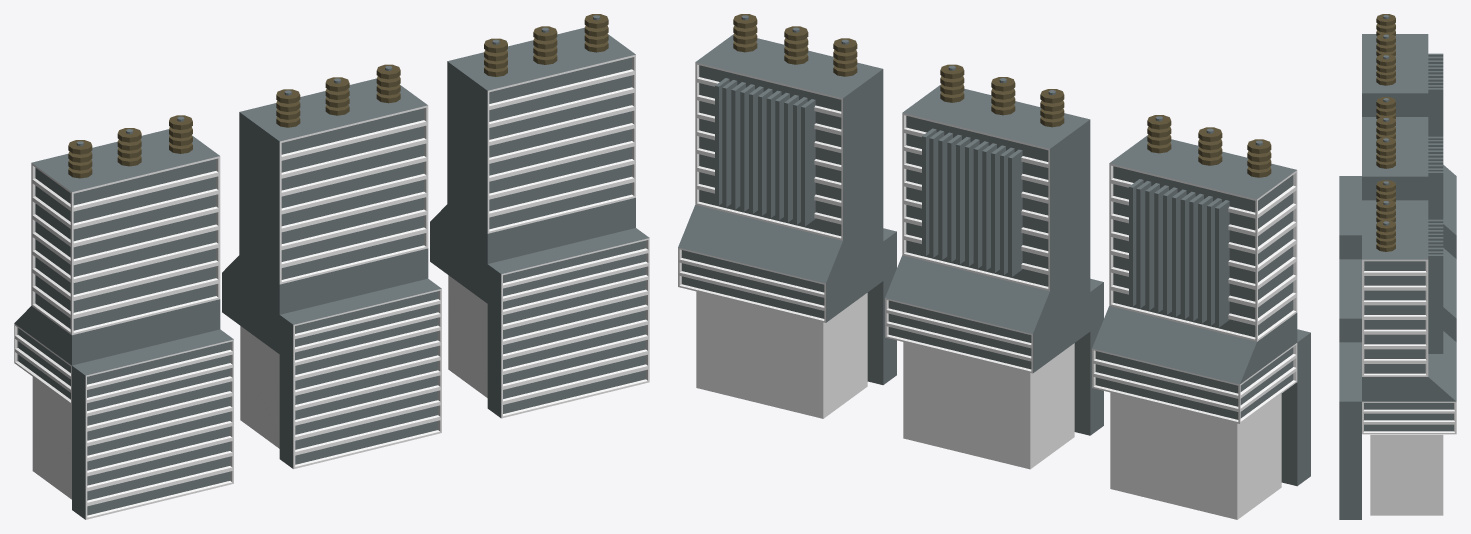
Rendered from site_switchgear_close.fbx.
3 views of the same model, side by side, from view 1: azimuth 30°, elevation 25°; view 2: azimuth 150°, elevation 25°; view 3: azimuth 270°, elevation 25° (orthographic). The views are drawn at different scales.
Visible parts, largest first — view 1: a1062/0/site_switchgear_close; view 2: a1062/0/site_switchgear_close; view 3: a1062/0/site_switchgear_close.
Boxes of the visible parts, <box> form: a1062/0/site_switchgear_close: <box>14,14,649,519</box>; a1062/0/site_switchgear_close: <box>678,14,1310,519</box>; a1062/0/site_switchgear_close: <box>1339,14,1456,519</box>.
Bounding box in the file's own units: 7.6 × 4.52 × 1.67.
